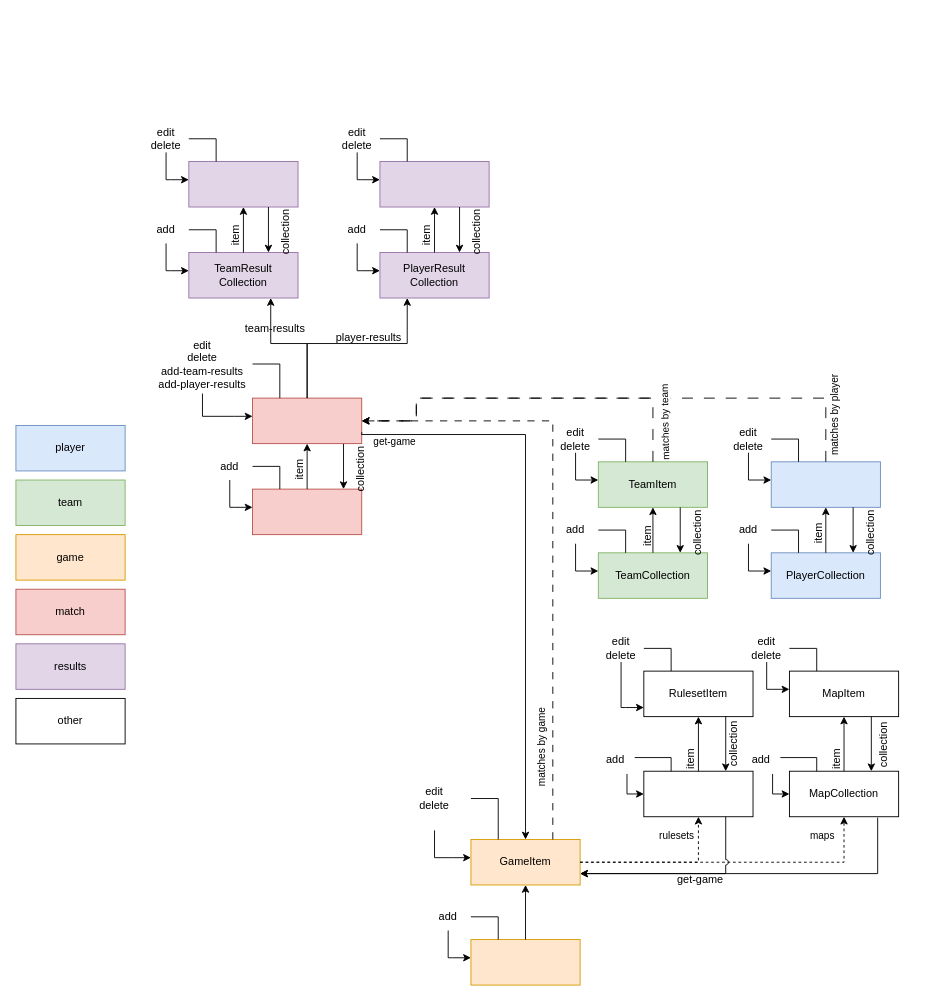
This 946x1001 diagram has some shape labels left out. Each missing label, with the box of its shape:
GameCollection: (470, 939, 580, 985)
MatchCollection: (252, 488, 362, 535)
MatchItem: (252, 397, 362, 444)
PlayerItem: (770, 461, 880, 507)
PlayerResult Item: (379, 161, 489, 207)
RulesetCollection: (643, 770, 753, 817)
TeamResult Item: (188, 161, 298, 207)
